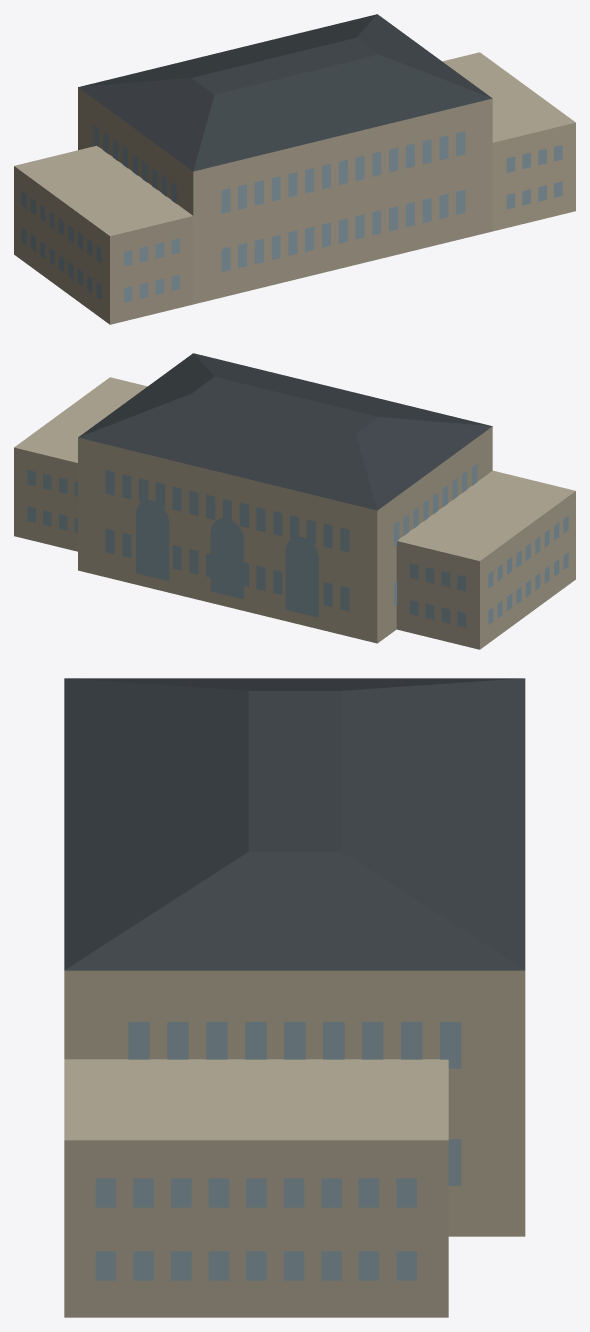
3 renders of one model, top to bottom at view 1: azimuth 30°, elevation 25°; view 2: azimuth 150°, elevation 25°; view 3: azimuth 270°, elevation 25°, orthographic. The views are drawn at different scales.
Visible parts, largest first — view 1: midtown-terminal-lod2; view 2: midtown-terminal-lod2; view 3: midtown-terminal-lod2.
Boxes of the visible parts, box(x1,y1,x2,y2) form: midtown-terminal-lod2: box(14, 14, 575, 324); midtown-terminal-lod2: box(14, 353, 575, 649); midtown-terminal-lod2: box(64, 678, 525, 1317).
Size of the model in its own units: 154 by 50.39 by 66.33.
